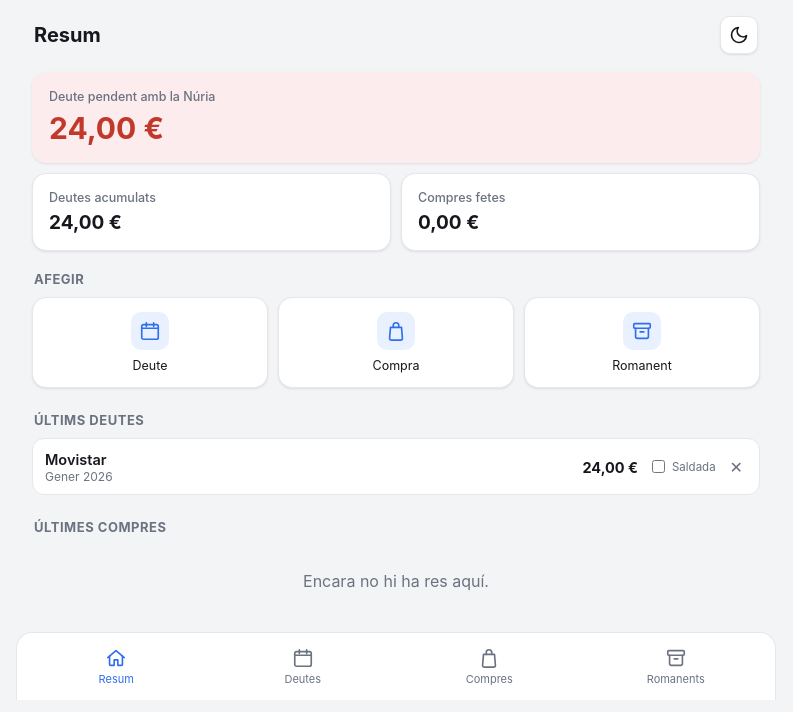
Test: App (integració) › edita una entrada clicant la targeta i deixa l'import actualitzat
Check: the text "Deutes" is shown, box [284,672,321,686]
Step 1. Click the button "Deutes" → click(303, 666), box [210,641,396,692]
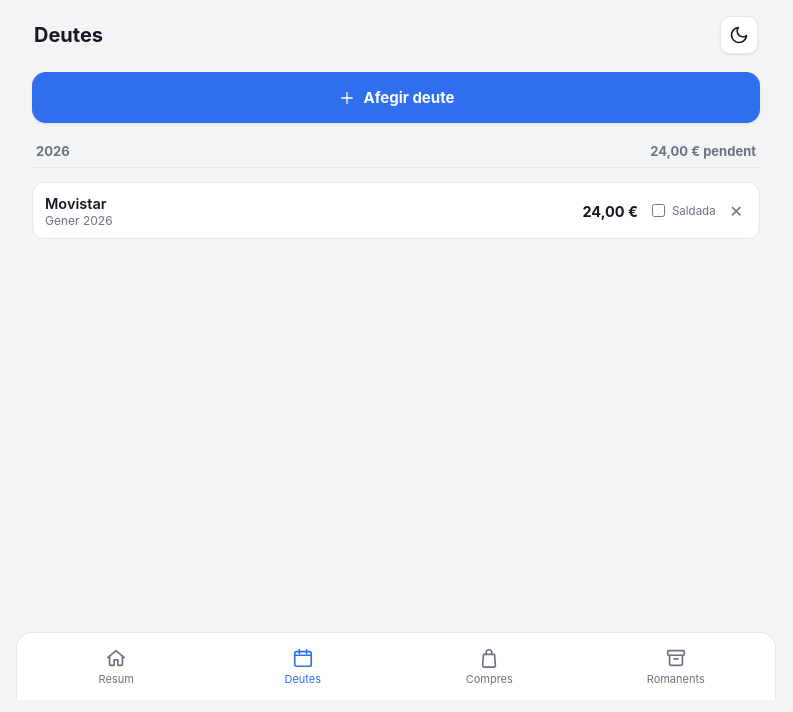
Step 2. Click the text "Movistar" → click(76, 204), box [45,195,106,212]
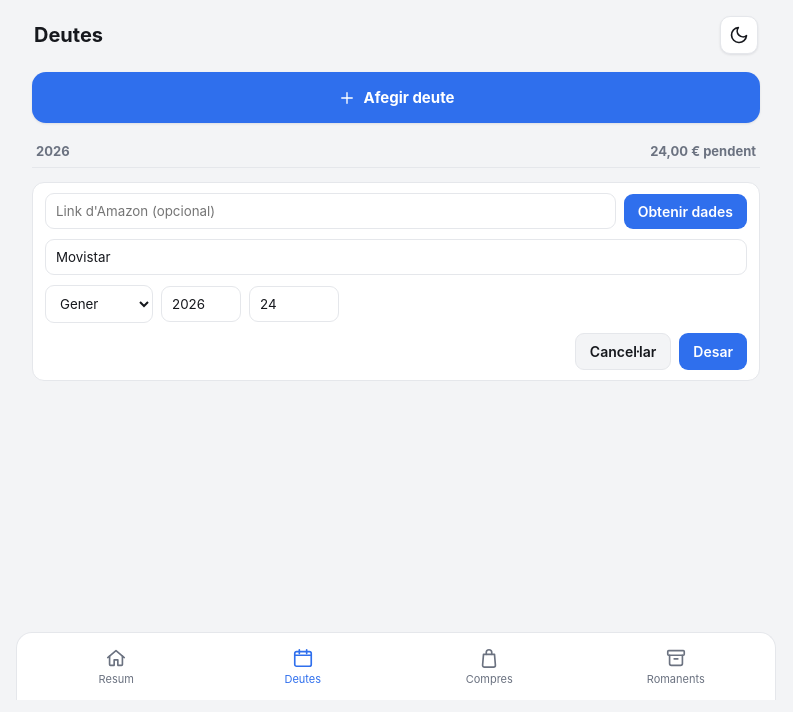
Step 3. Replace the text in the 2nd number field showing "24" with "30" → (294, 304), box [249,286,339,322]
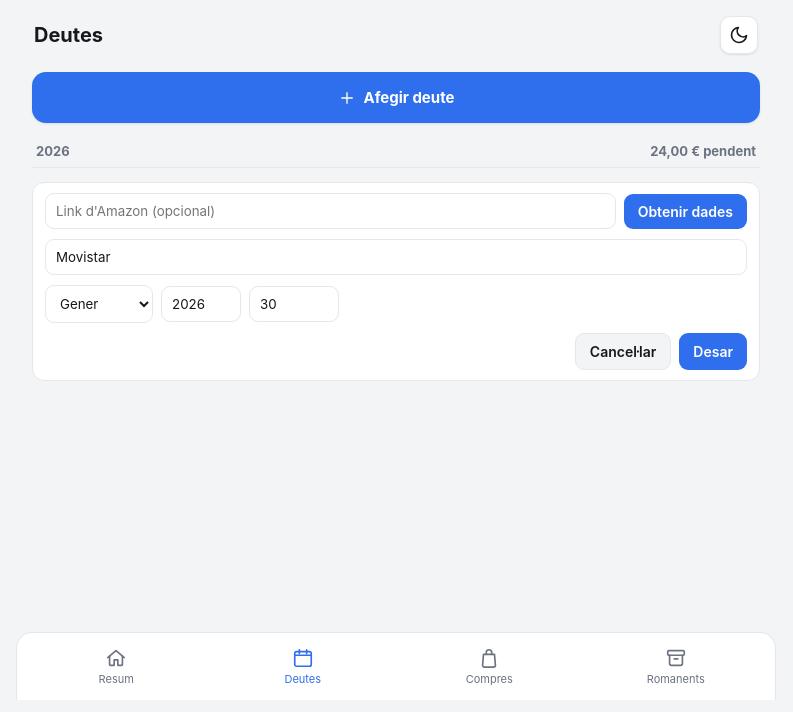
Step 4. Click the button "Desar" → click(713, 352), box [679,333,747,370]
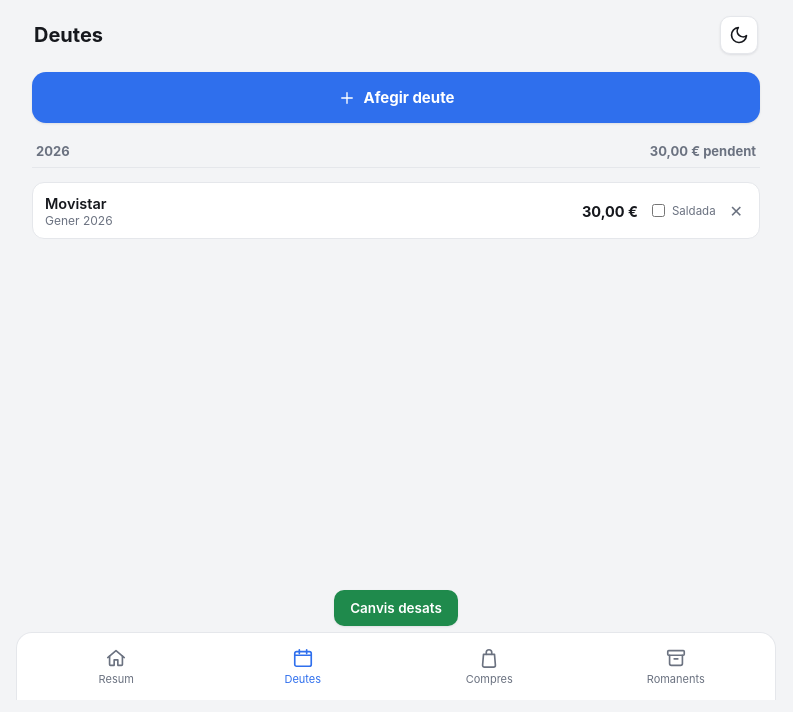
Check: the text "30,00 €" is shown, box [582,202,638,220]
